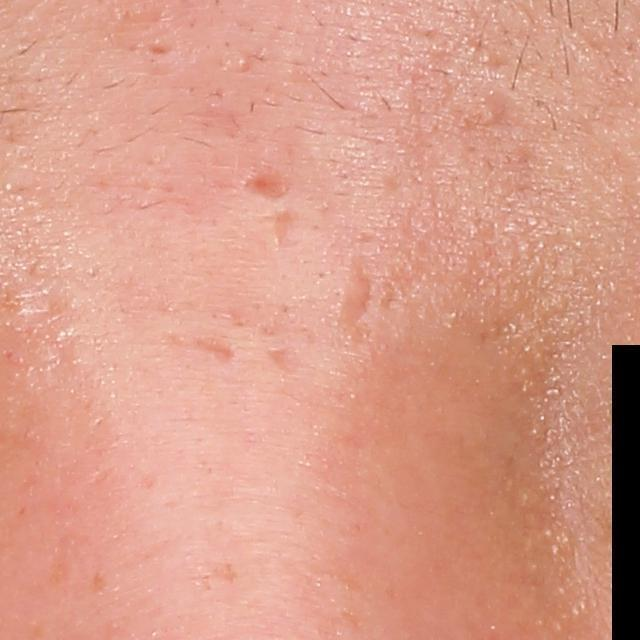atrophic_scar: (333, 253, 383, 365), (162, 330, 241, 368), (463, 89, 520, 136), (239, 169, 304, 204), (266, 346, 302, 378), (271, 208, 293, 256), (147, 43, 175, 57)
melasma: (215, 562, 245, 587), (91, 561, 108, 596)
